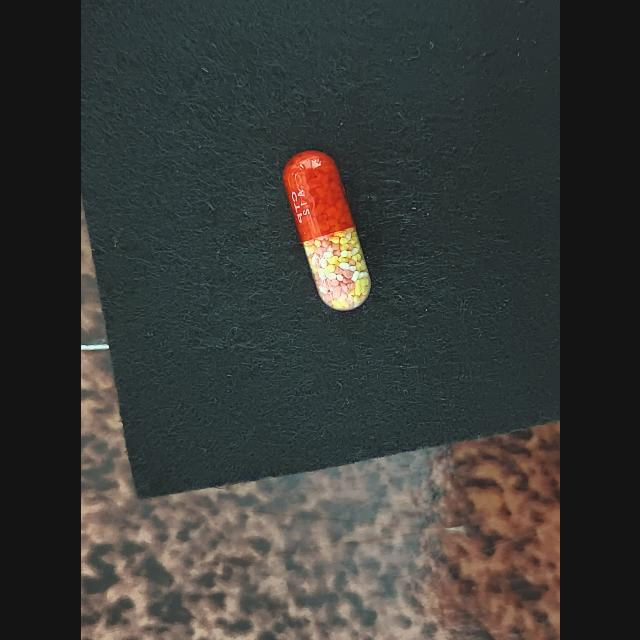Intact Capsule: (282, 150, 370, 311)
